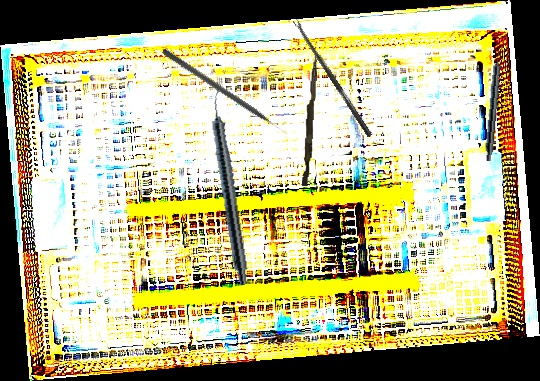Handpiece: (205, 86, 254, 286), (484, 45, 505, 162)
Pusher: (160, 47, 290, 139), (301, 52, 319, 187)
Surgical Spoon: (292, 18, 374, 138)
